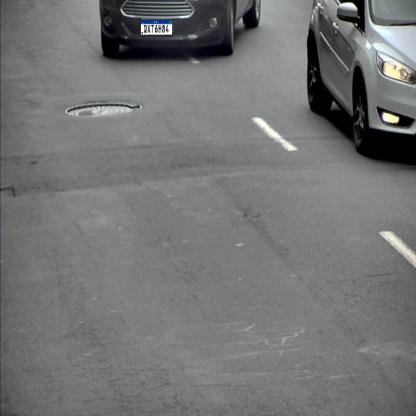PlacaM: (140, 20, 172, 36)
